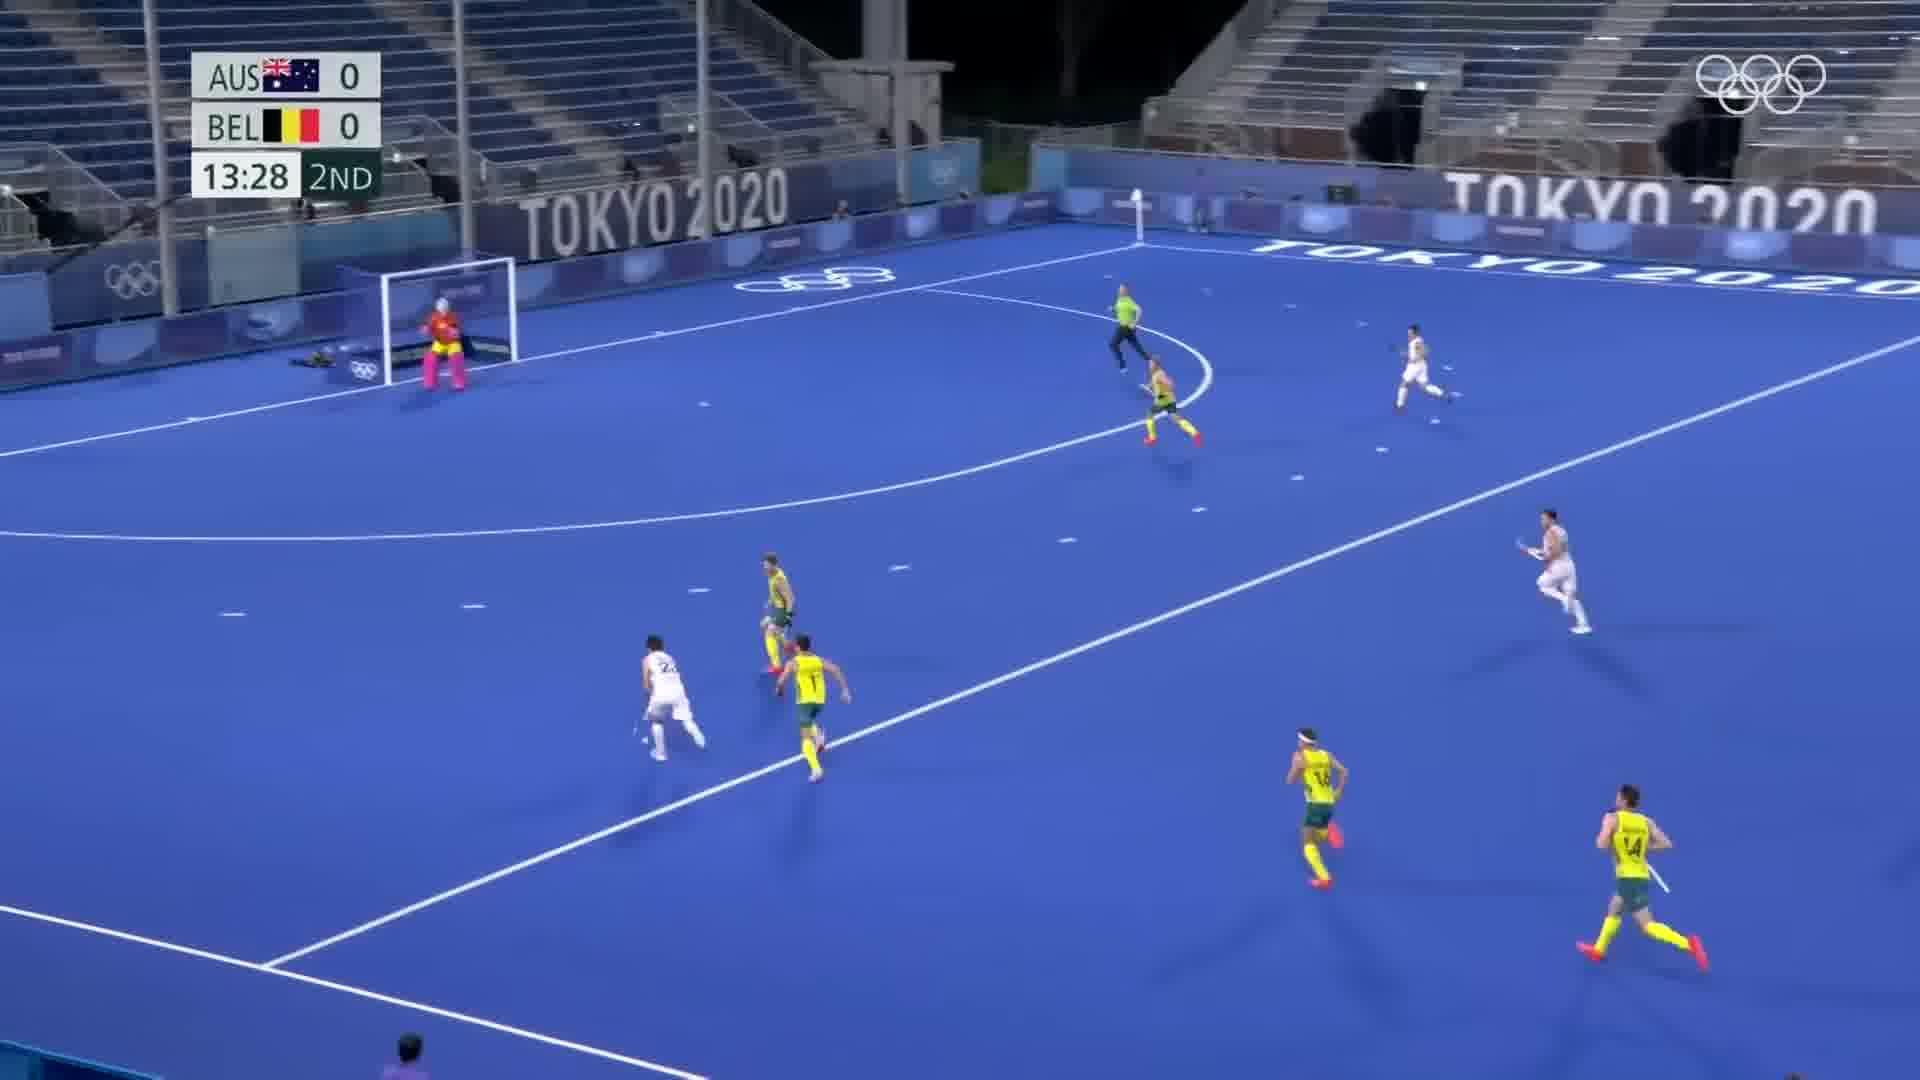ball: (638, 732, 651, 752)
